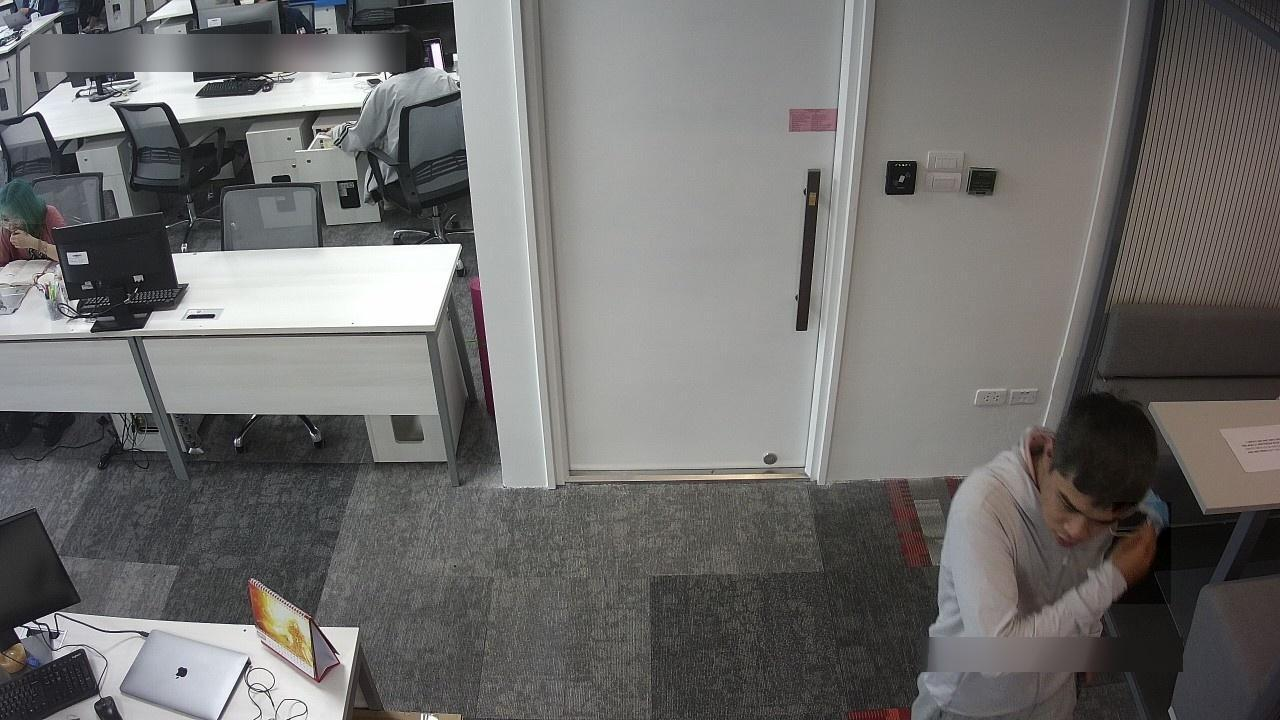no_apron: (1113, 503, 1172, 605), (9, 225, 47, 269)
no_gloves: (1053, 357, 1169, 510), (0, 172, 56, 231)
no_hairnet: (1041, 456, 1117, 551)
